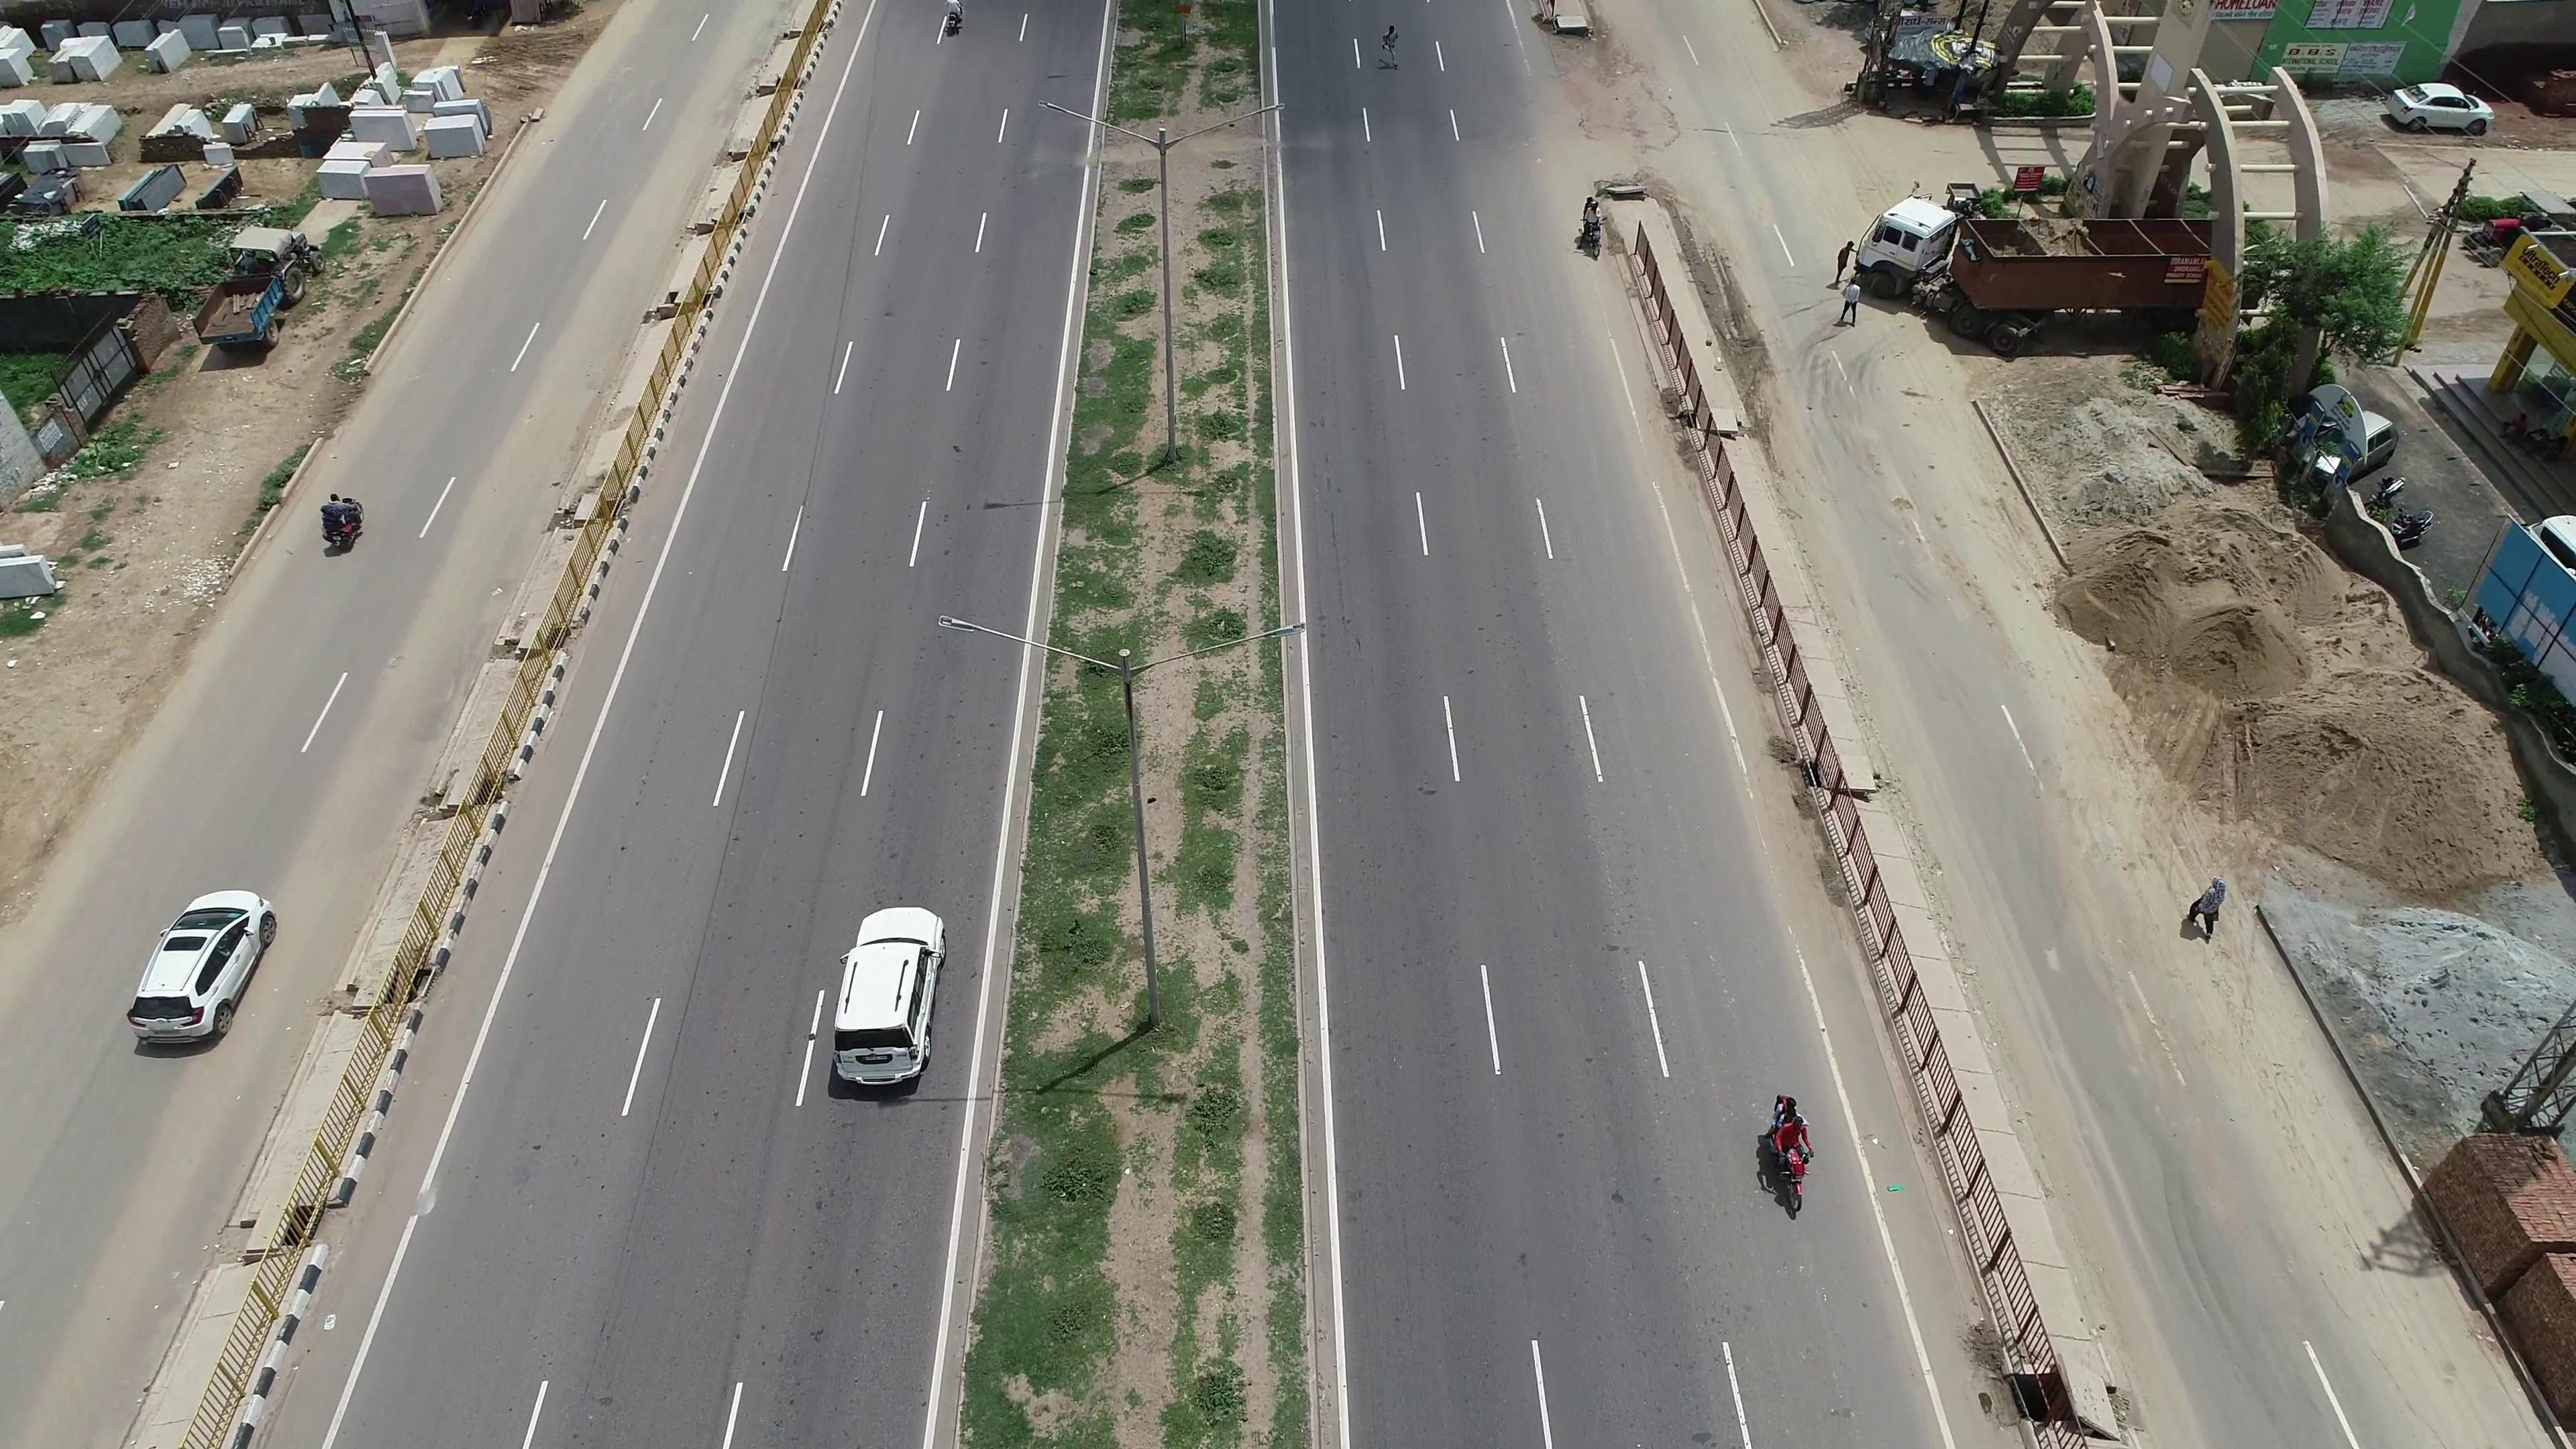Muddy_road: (2005, 626, 2196, 998)
